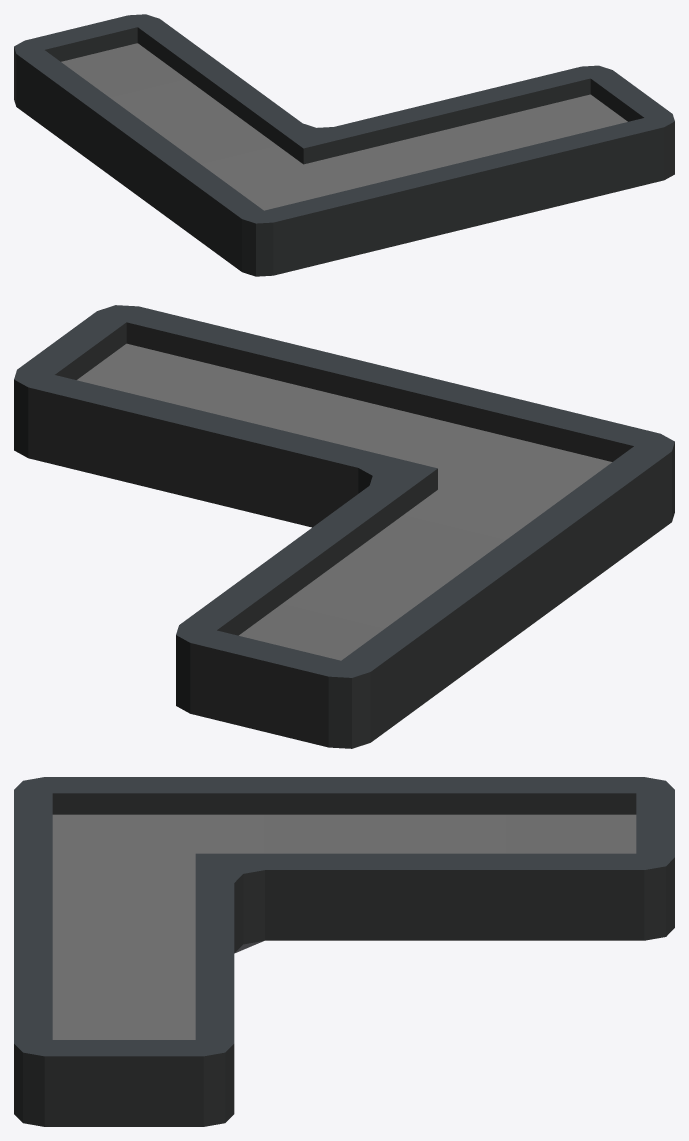
The model's file is LightCorner_03.glb.
3 views of the same model, one above another, from view 1: azimuth 30°, elevation 25°; view 2: azimuth 150°, elevation 25°; view 3: azimuth 270°, elevation 25° (orthographic). The views are drawn at different scales.
Parts seen in each view (by area): view 1: LightCorner_03; view 2: LightCorner_03; view 3: LightCorner_03.
Boxes of the visible parts, x1,y1,x2,y2 form: LightCorner_03: [14, 14, 674, 276]; LightCorner_03: [14, 305, 674, 748]; LightCorner_03: [14, 777, 674, 1126].
Size of what is drawn, in the model's own units: 1.25 by 0.1477 by 1.25.
Materials: 2 (2 with a texture image).
